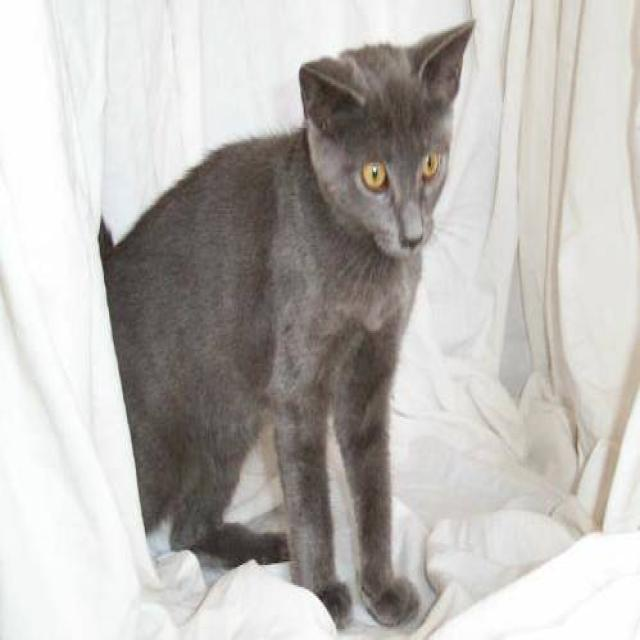cat: (96, 16, 476, 629)
